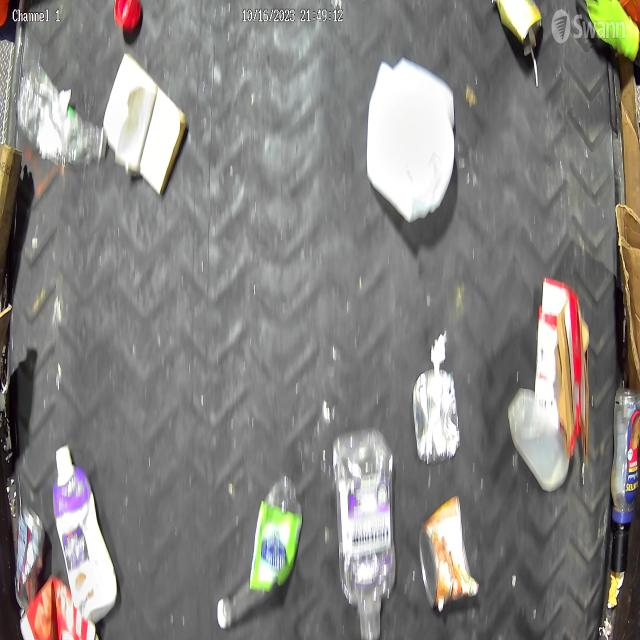can: (419, 494, 480, 611), (412, 366, 461, 464), (14, 503, 46, 610), (494, 0, 543, 58)
milk_jug: (365, 57, 456, 224)
plastic_bottle: (216, 472, 303, 630), (16, 58, 107, 165), (610, 383, 640, 524)
